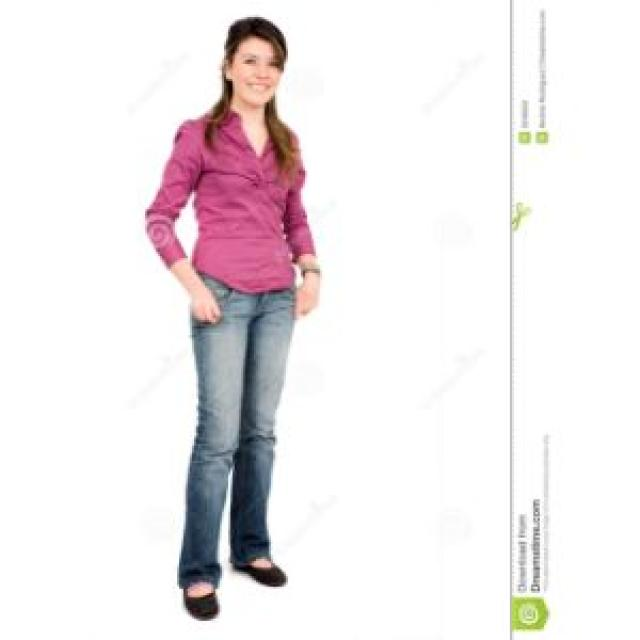adult: (143, 17, 328, 623)
